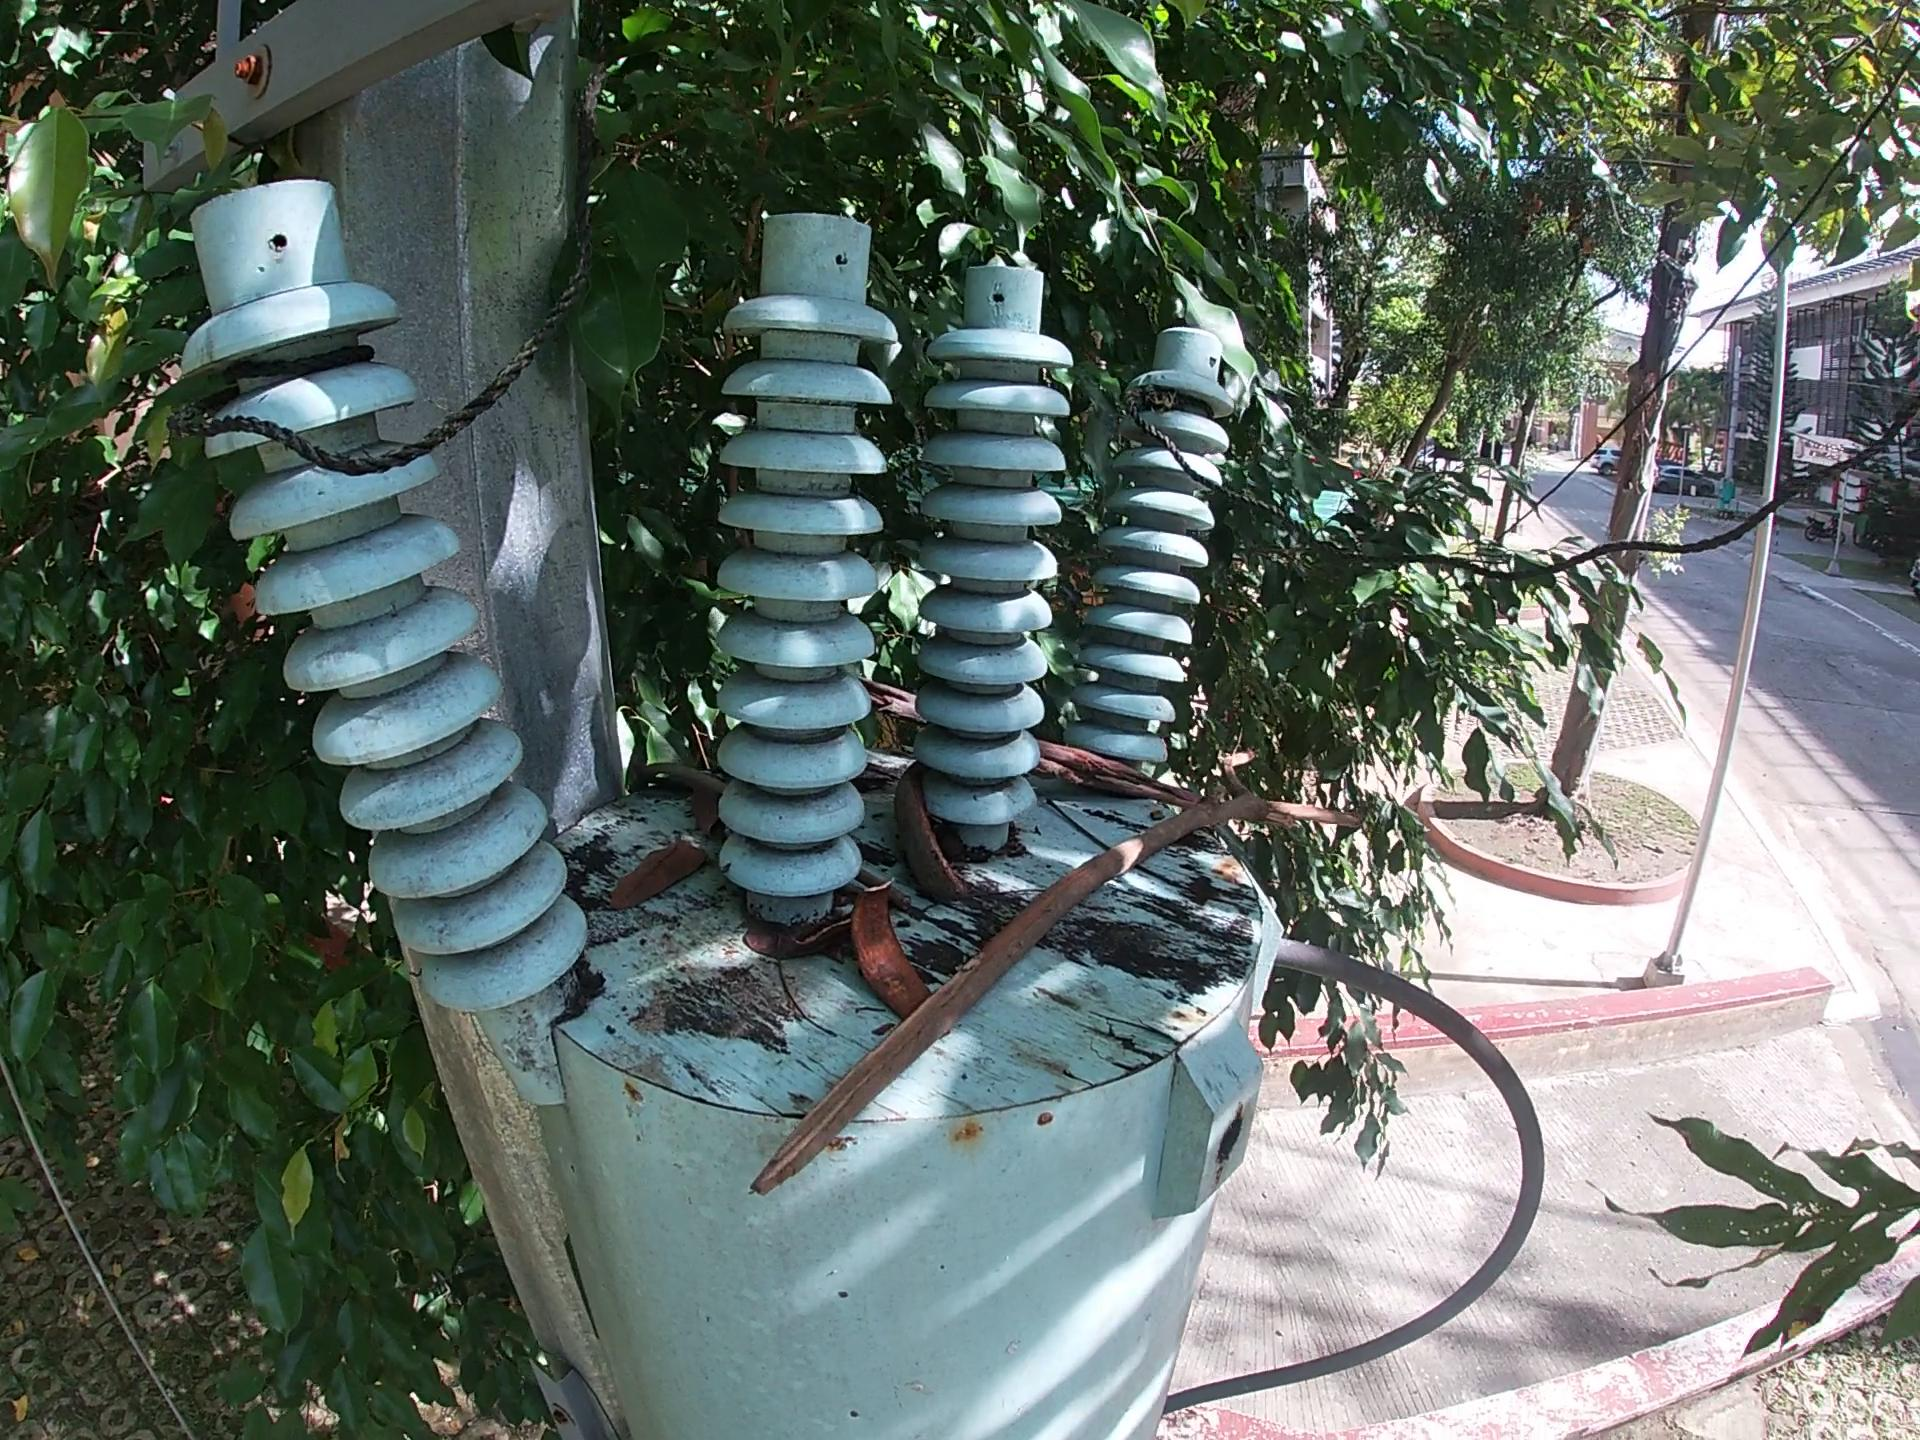leaf: (608, 826, 717, 915), (751, 915, 831, 959), (689, 793, 729, 846)
mahogany fruit: (850, 876, 940, 1024), (889, 756, 974, 906)
tree branch: (747, 746, 1376, 1199), (860, 678, 1203, 808), (623, 756, 729, 802), (854, 867, 916, 911)
